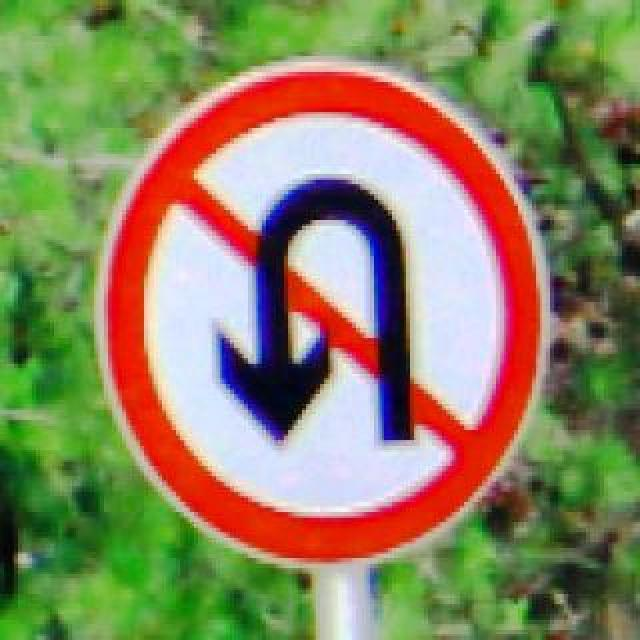no u turn: (86, 52, 546, 564)
